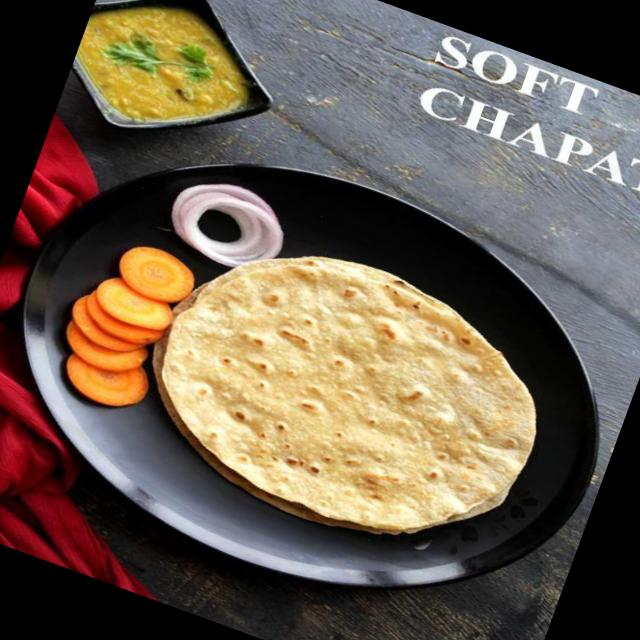dal: (77, 3, 261, 125)
roti: (157, 254, 537, 536)
